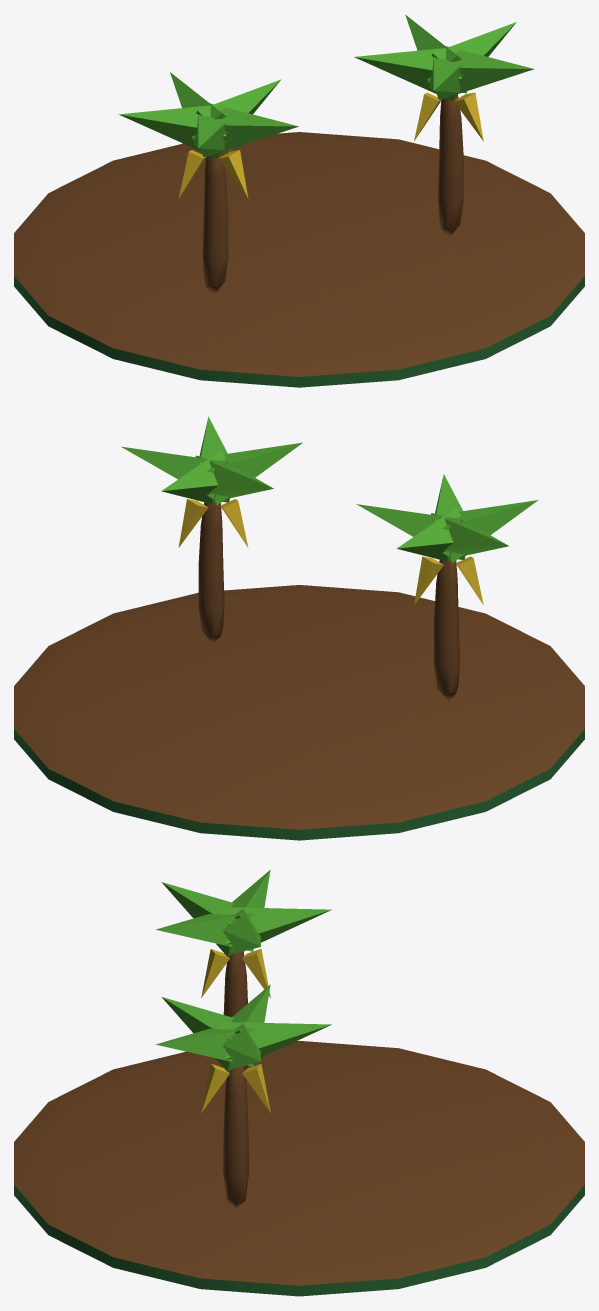
The picture shows the model from 3 angles, top to bottom: view 1: azimuth 30°, elevation 25°; view 2: azimuth 150°, elevation 25°; view 3: azimuth 270°, elevation 25°; orthographic projection.
Visible parts, largest first — view 1: fazenda_0_base, fazenda_1_torreta; view 2: fazenda_0_base, fazenda_1_torreta; view 3: fazenda_0_base, fazenda_1_torreta.
Boxes of the visible parts, x1,y1,x2,y2 form: fazenda_0_base: [14, 132, 584, 387]; fazenda_1_torreta: [118, 15, 534, 294]; fazenda_0_base: [14, 585, 584, 840]; fazenda_1_torreta: [121, 416, 538, 701]; fazenda_0_base: [14, 1040, 584, 1296]; fazenda_1_torreta: [155, 870, 331, 1209].
Size of the model in its own units: 1.28 by 0.5151 by 1.26.
